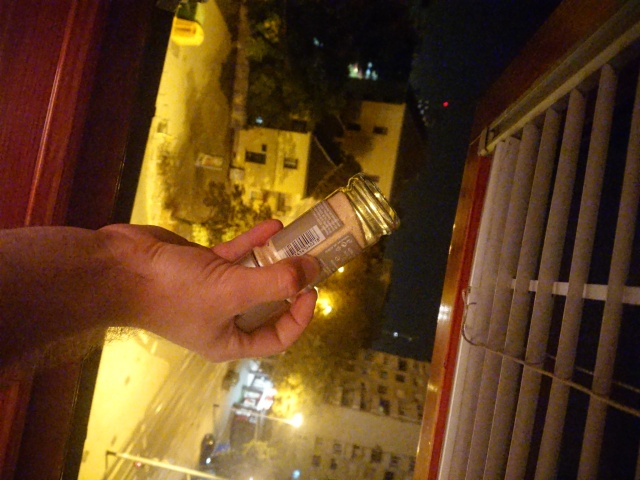Kotanyi Garlic Granules 70g: (210, 168, 405, 339)
